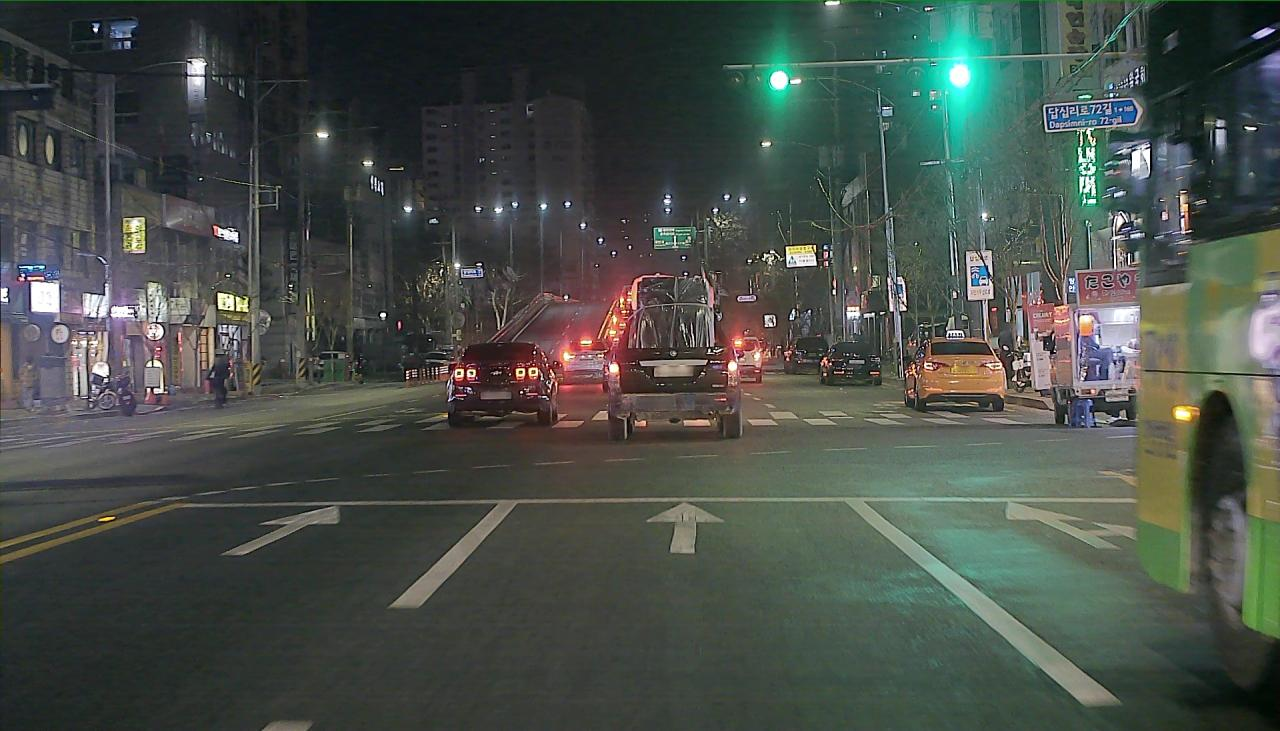Green Light: (946, 64, 971, 88), (769, 70, 789, 90)
